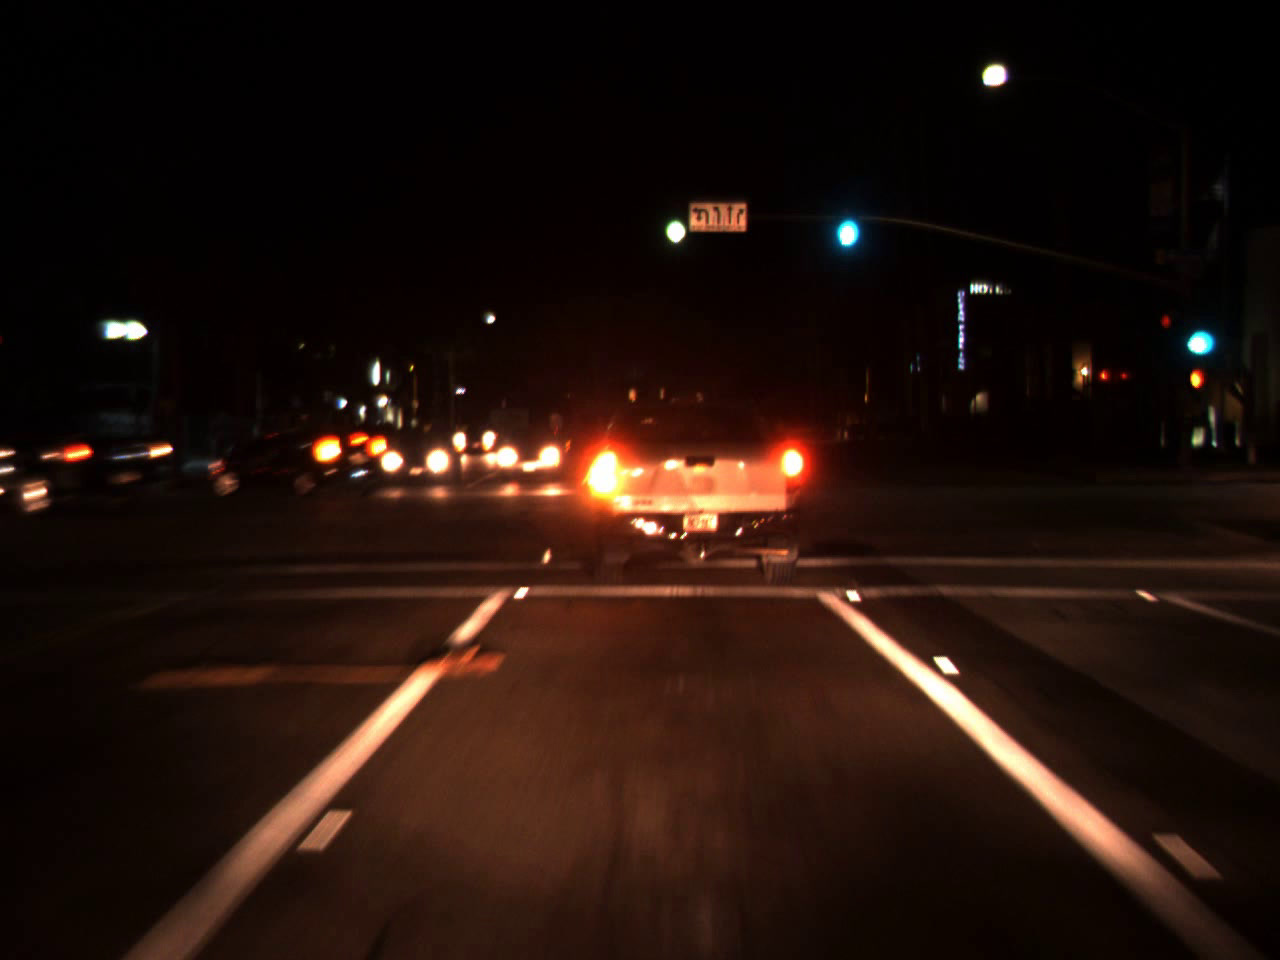go: (828, 185, 864, 257), (1177, 304, 1215, 364), (659, 192, 689, 252)
